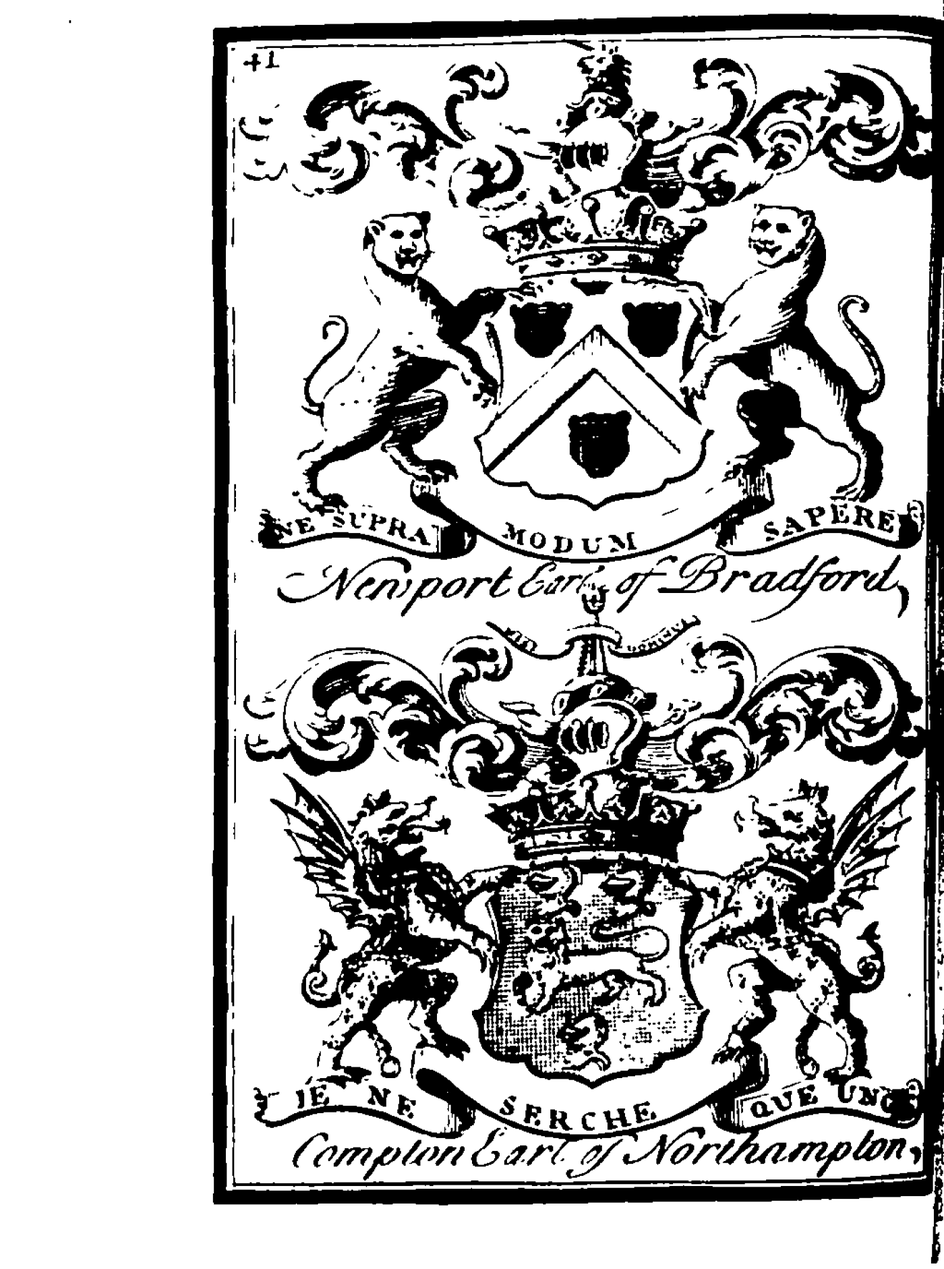coat_of_arms: (234, 609, 926, 1171), (240, 59, 926, 604)
